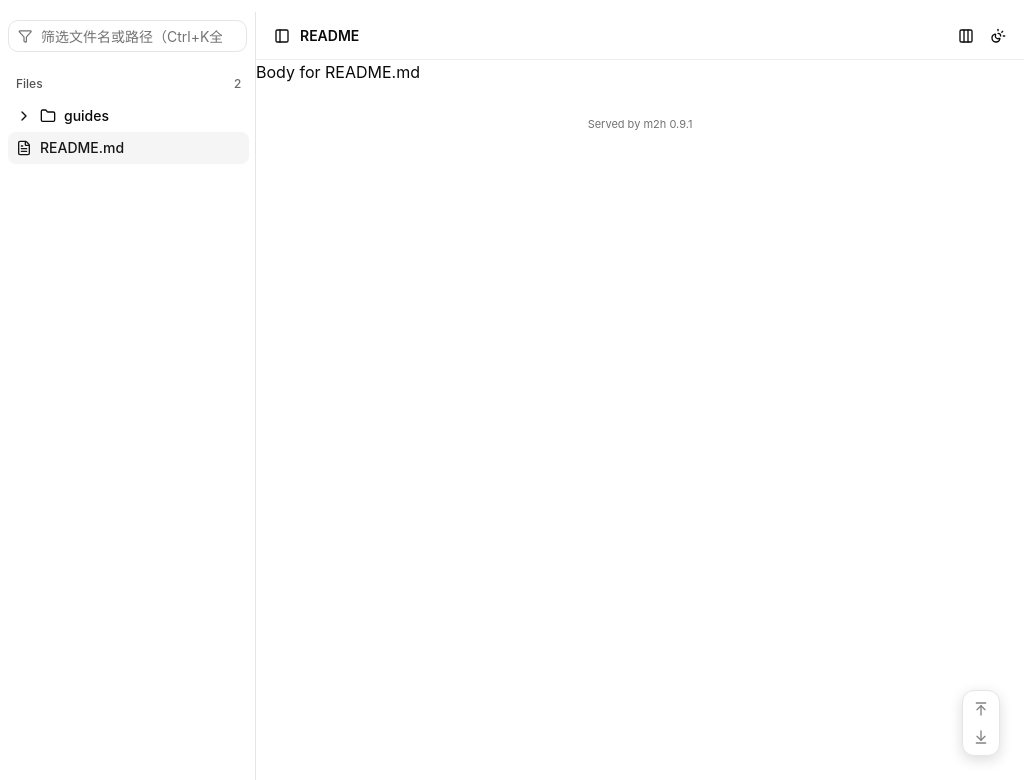
it: App directory preview › filters documents locally by file name and path
The width and height of the screenshot is (1024, 780).
Expected: the text "Body for README.md" is shown, [256, 62, 420, 82]
// The name matches even when the query is not a full path...
Type "setup" into the search field named "按文件名或路径筛选文件".
click(128, 36); type("setup")  # box [8, 20, 247, 52]
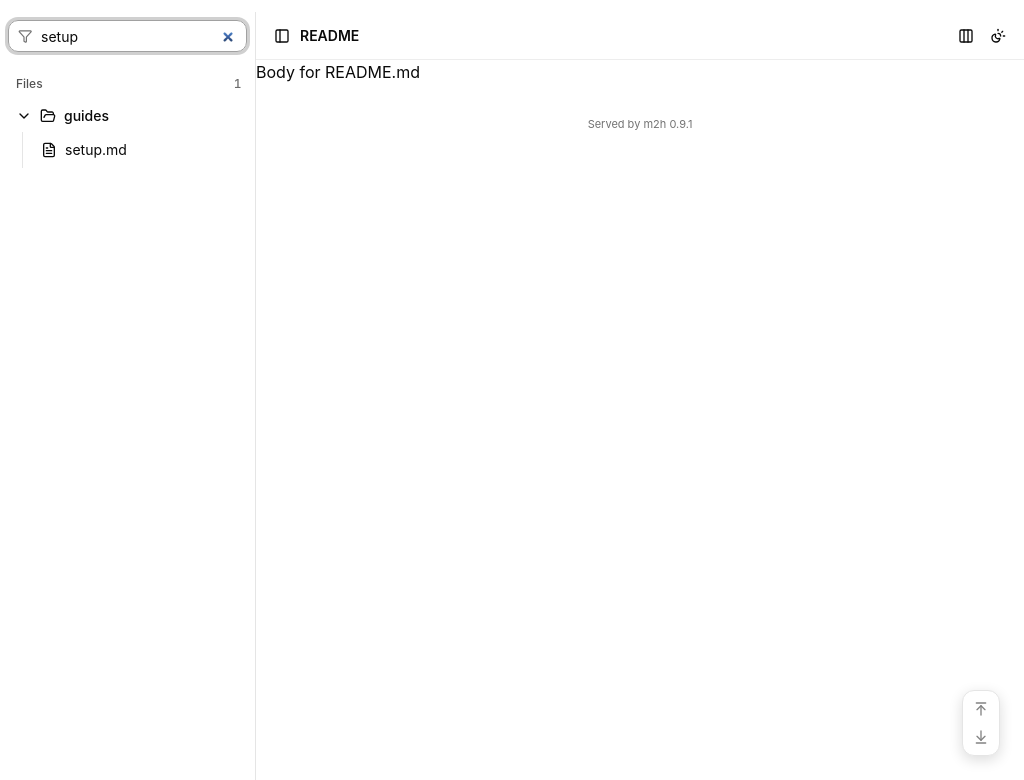
Now the button with aria-label "setup.md，guides/setup.md" is shown, box [33, 134, 249, 166]
// ...and so does the path segment the name alone would not cover.
Replace the text in the search field named "按文件名或路径筛选文件" with "guides" at (128, 36), box [8, 20, 247, 52]
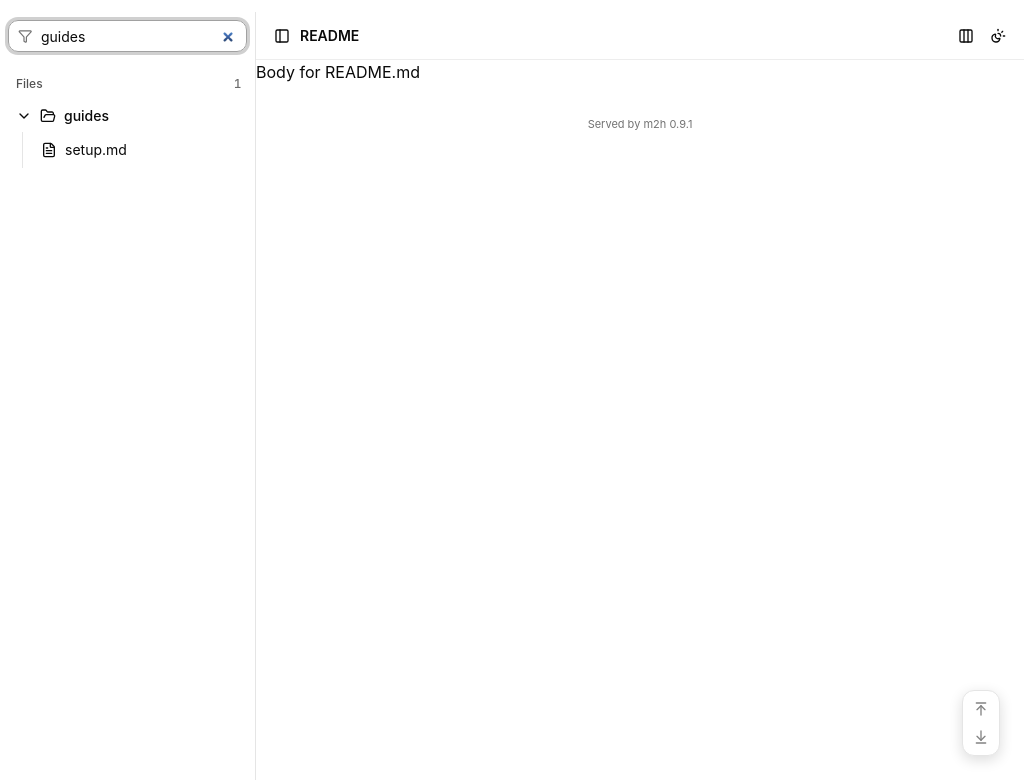
Expected: the button with aria-label "setup.md，guides/setup.md" is shown, [33, 134, 249, 166]
Replace the text in the search field named "按文件名或路径筛选文件" with "missing.md" at (128, 36), box [8, 20, 247, 52]
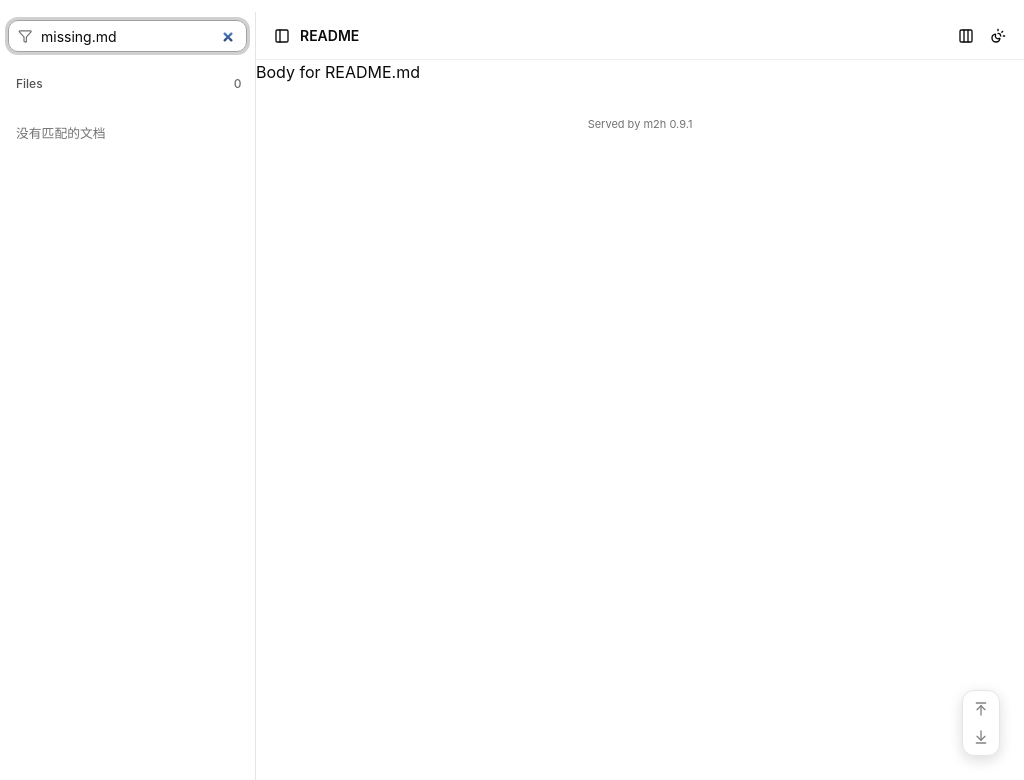
Now the text "没有匹配的文档" is shown, box [16, 126, 106, 141]
